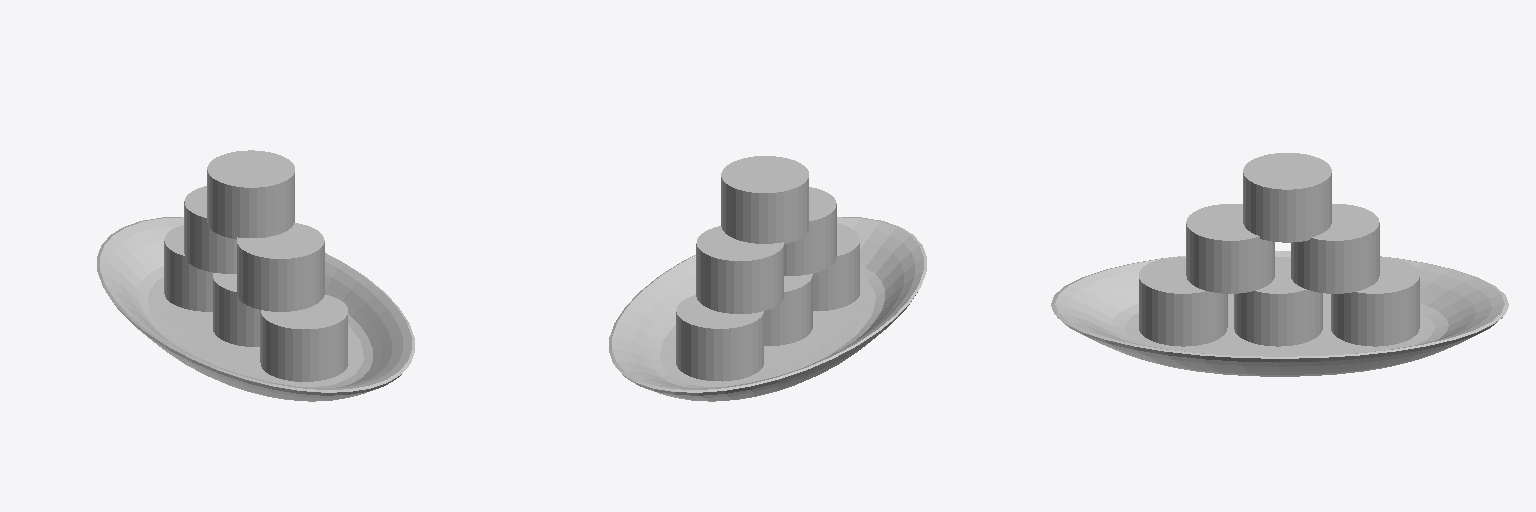
The model's file is kue keranjang.obj.
3 renders of one model, left to right at view 1: azimuth 30°, elevation 25°; view 2: azimuth 150°, elevation 25°; view 3: azimuth 270°, elevation 25°, orthographic.
Parts seen in each view (by area): view 1: Cylinder, Cylinder.006, Cylinder.005, Cylinder.001, Cylinder.004, Cylinder.003, Cylinder.002; view 2: Cylinder, Cylinder.006, Cylinder.004, Cylinder.003, Cylinder.005, Cylinder.001, Cylinder.002; view 3: Cylinder, Cylinder.006, Cylinder.005, Cylinder.004, Cylinder.001, Cylinder.003, Cylinder.002.
Part boxes in pixels (bbox=[...]): Cylinder: bbox=[97, 217, 414, 401]; Cylinder.006: bbox=[207, 150, 294, 239]; Cylinder.005: bbox=[237, 223, 324, 311]; Cylinder.001: bbox=[260, 295, 347, 381]; Cylinder.004: bbox=[184, 186, 236, 273]; Cylinder.003: bbox=[164, 225, 212, 311]; Cylinder.002: bbox=[213, 273, 259, 346]; Cylinder: bbox=[609, 217, 926, 401]; Cylinder.006: bbox=[721, 156, 808, 243]; Cylinder.004: bbox=[696, 226, 783, 313]; Cylinder.003: bbox=[676, 295, 763, 381]; Cylinder.005: bbox=[784, 187, 836, 275]; Cylinder.001: bbox=[813, 223, 859, 310]; Cylinder.002: bbox=[764, 274, 812, 345]; Cylinder: bbox=[1051, 251, 1508, 376]; Cylinder.006: bbox=[1243, 153, 1331, 242]; Cylinder.005: bbox=[1186, 204, 1274, 293]; Cylinder.004: bbox=[1291, 204, 1379, 293]; Cylinder.001: bbox=[1139, 257, 1227, 346]; Cylinder.003: bbox=[1331, 257, 1419, 346]; Cylinder.002: bbox=[1234, 257, 1322, 346].
Size of the model in its own units: 1.25 by 0.9073 by 2.23.